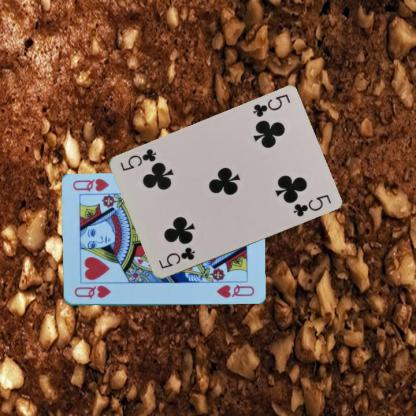5c: (250, 92, 291, 119), (156, 244, 196, 270)
Qh: (71, 283, 112, 300)
